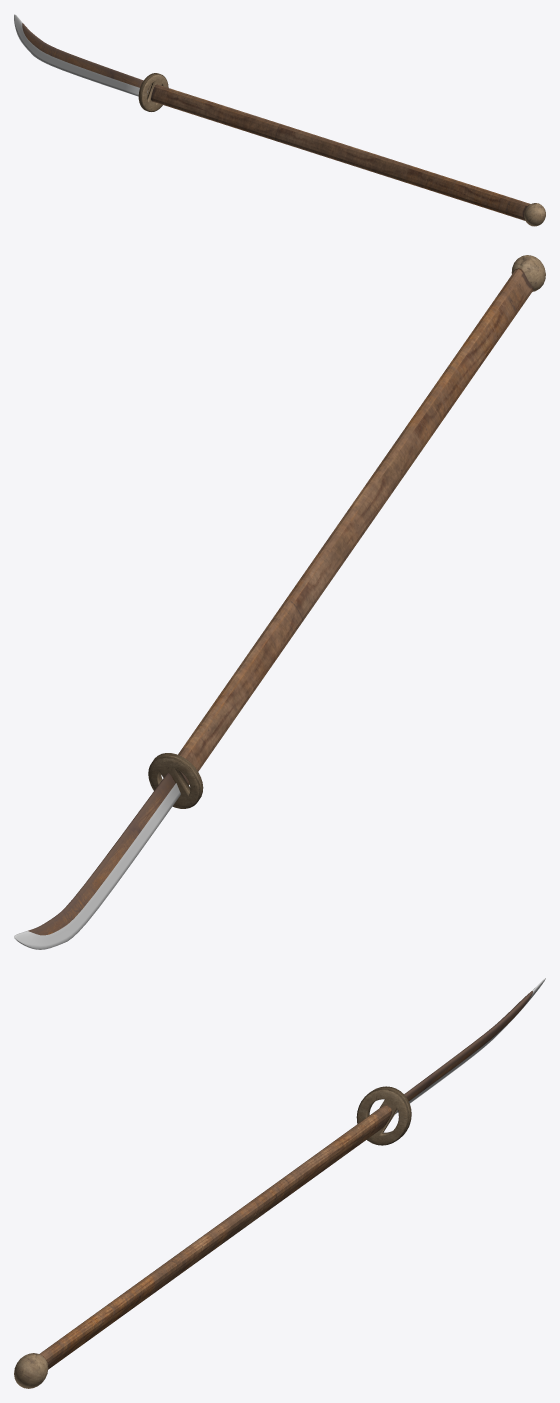
Rendered from Wooden Naginata extra.fbx.
The picture shows the model from 3 angles, top to bottom: view 1: azimuth 30°, elevation 25°; view 2: azimuth 150°, elevation 25°; view 3: azimuth 330°, elevation 25°; orthographic projection. The views are drawn at different scales.
Visible parts, largest first — view 1: Icosphere.002; view 2: Icosphere.002; view 3: Icosphere.002.
Part boxes in pixels (left/top/right/bottom): Icosphere.002: left=14, top=14, right=545, bottom=226; Icosphere.002: left=14, top=255, right=545, bottom=949; Icosphere.002: left=14, top=978, right=545, bottom=1388.
Bounding box in the file's own units: 69.36 × 67.71 × 450.
